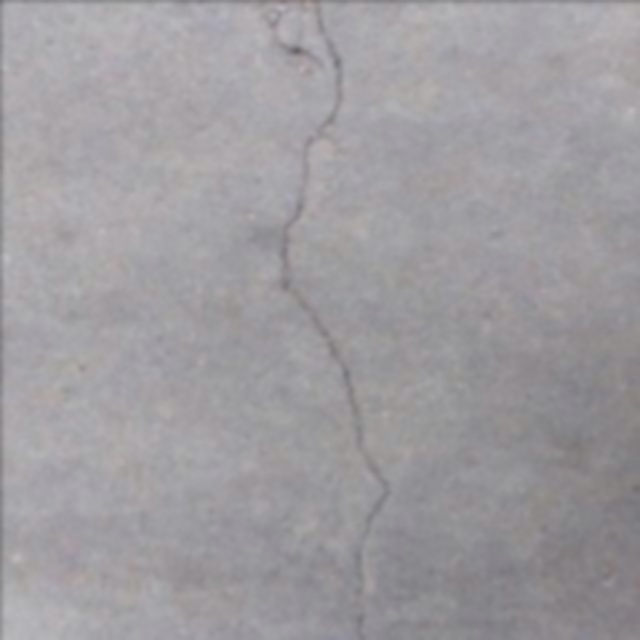SurfaceCrack: (238, 0, 410, 640)
